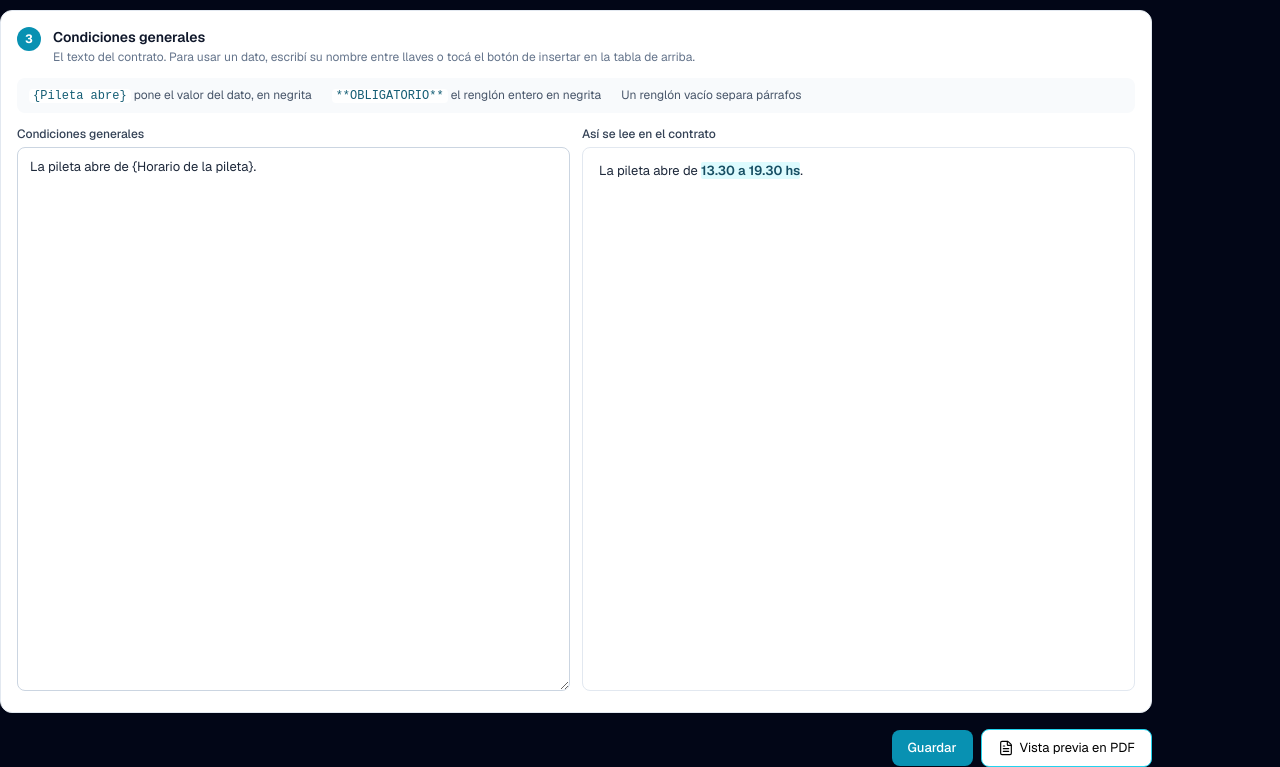
Scenario: Panel de usuario > Contrato › inserta un dato donde esta el cursor del texto
(page scrolled)
Replace the text in the text box labelled "Condiciones generales" with "Abre a las  hs." at (294, 419), box [17, 147, 570, 691]
(page scrolled)
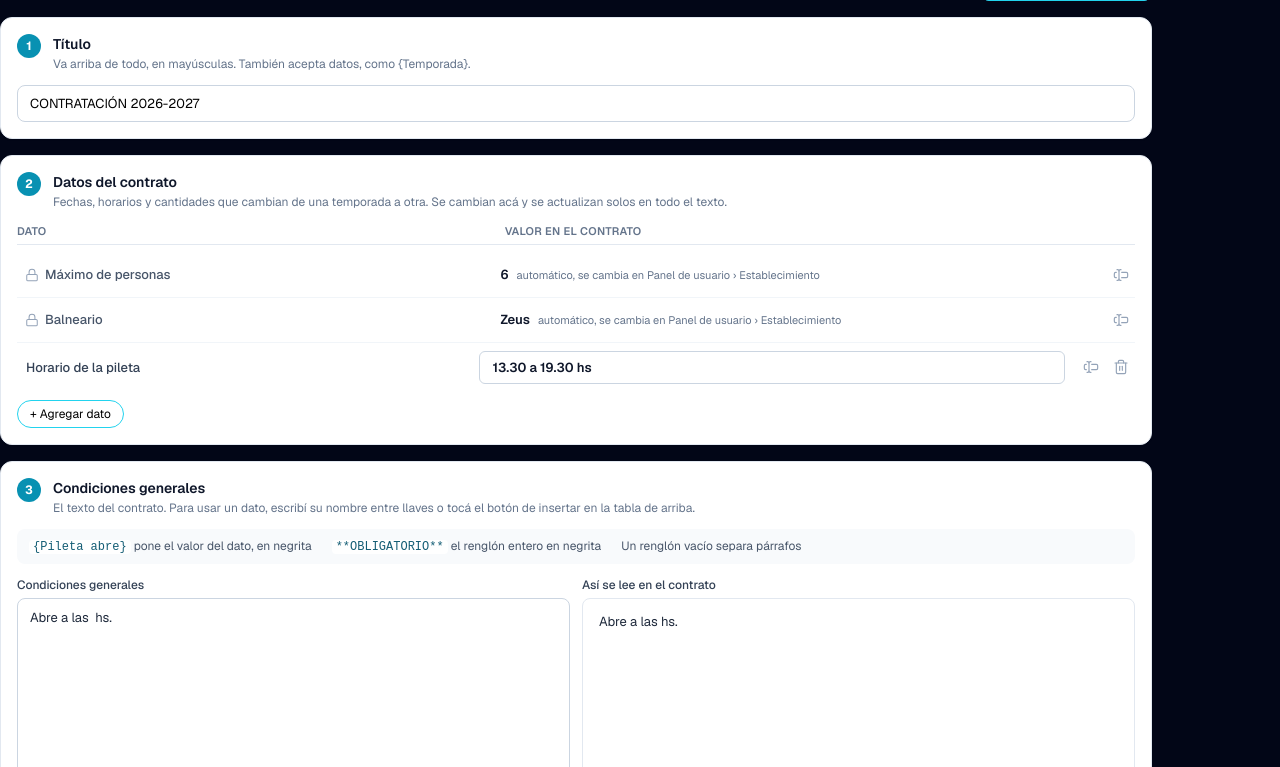
Click the button named "Insertar Horario de la pileta en el texto" at (1091, 367), box [1077, 353, 1105, 381]
(page scrolled)
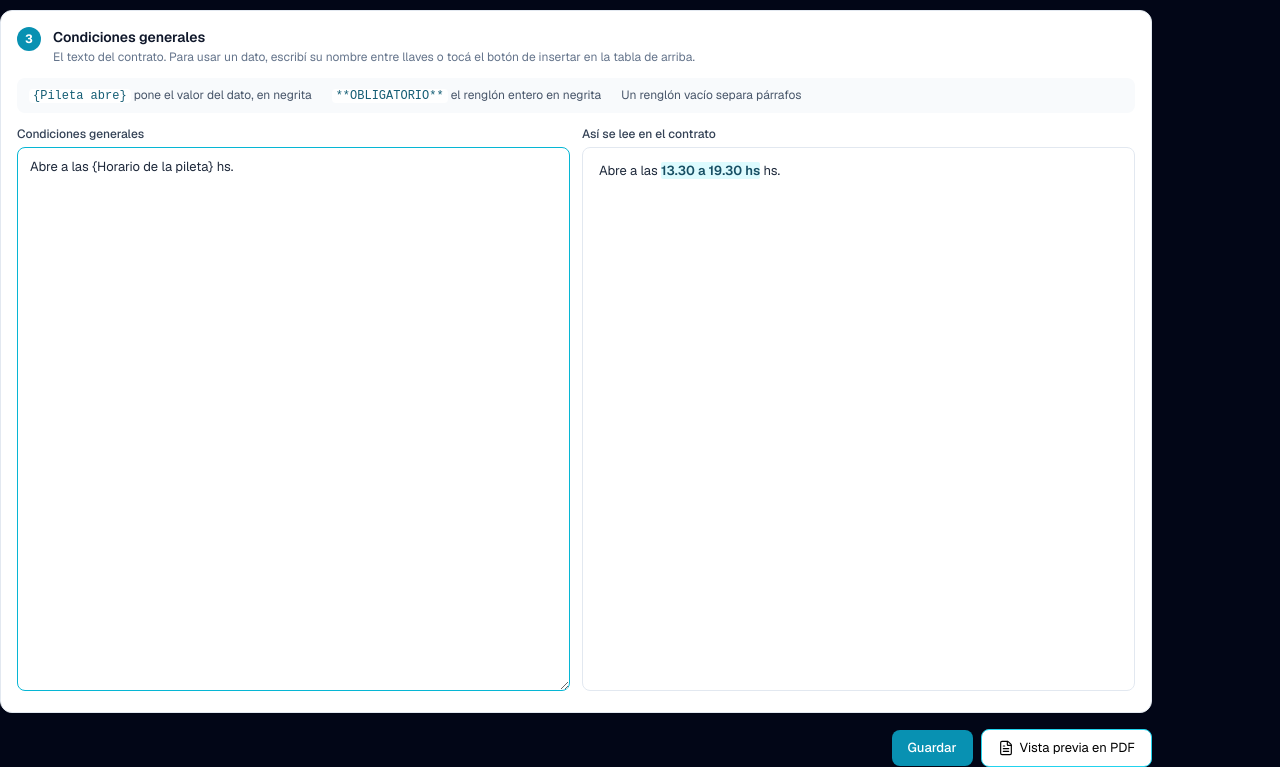
Now the text box labelled "Condiciones generales" holds "Abre a las {Horario de la pileta} hs.", box [17, 147, 570, 691]
